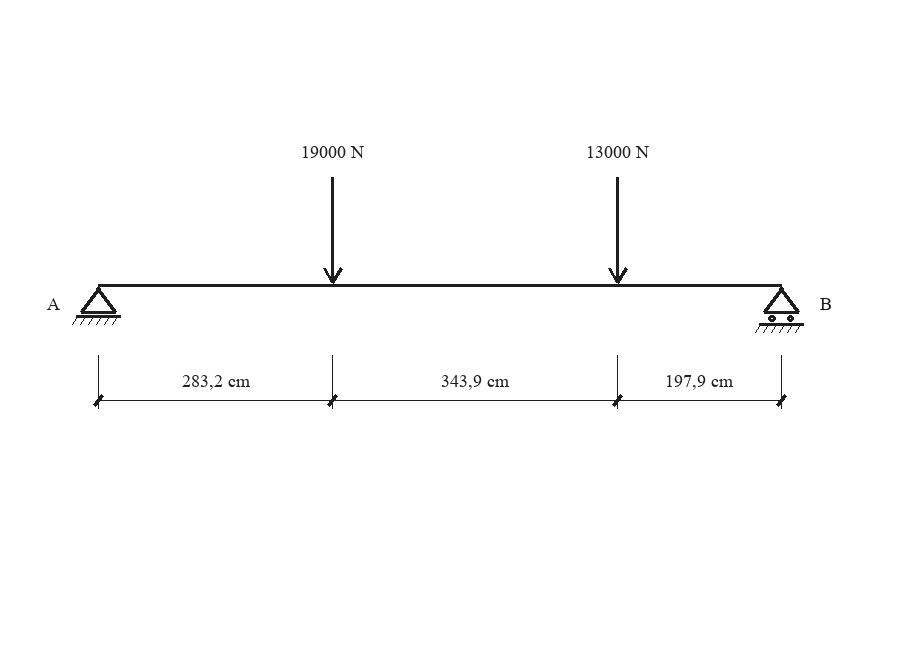pin_support: (72, 287, 121, 325)
point_load: (323, 177, 343, 284), (608, 177, 628, 284)
roller_support: (755, 287, 804, 333)
